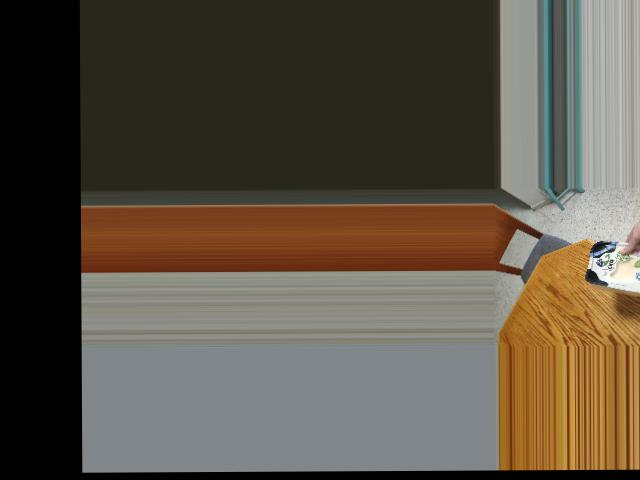cheese: (590, 230, 640, 293)
